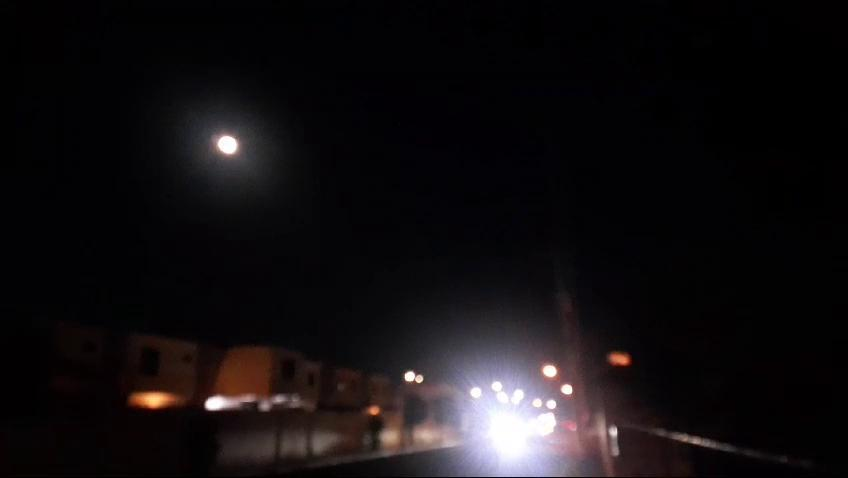moon: (221, 133, 246, 158)
